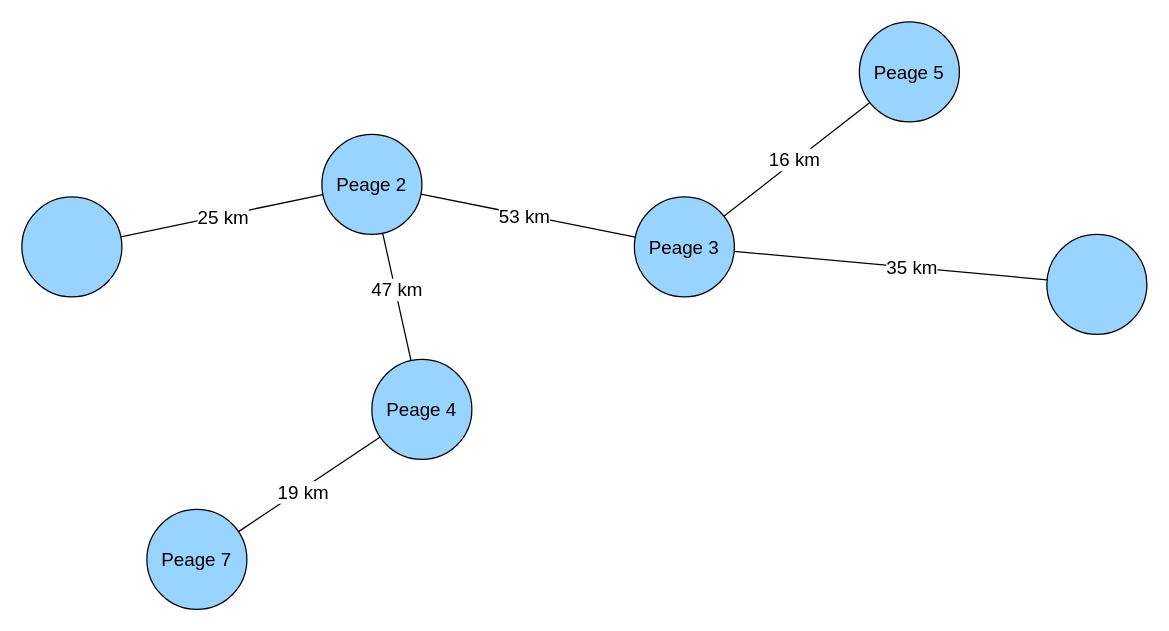
Some shapes in this 1169 by 631 pixel diagram are drawn without their labels. The centre of each missing label's shape, as x and y in pixels:
"Peage 1" belongs at point (71, 246).
"Peage 6" belongs at point (1096, 283).
